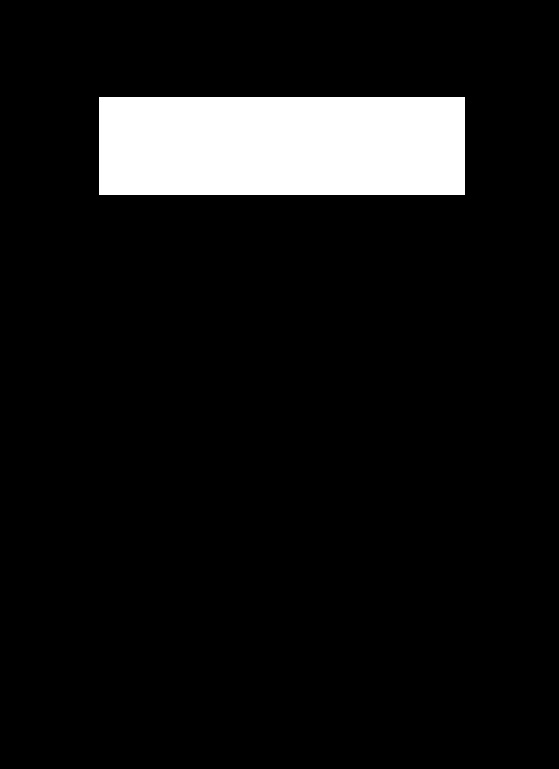table: (99, 97, 464, 194)
